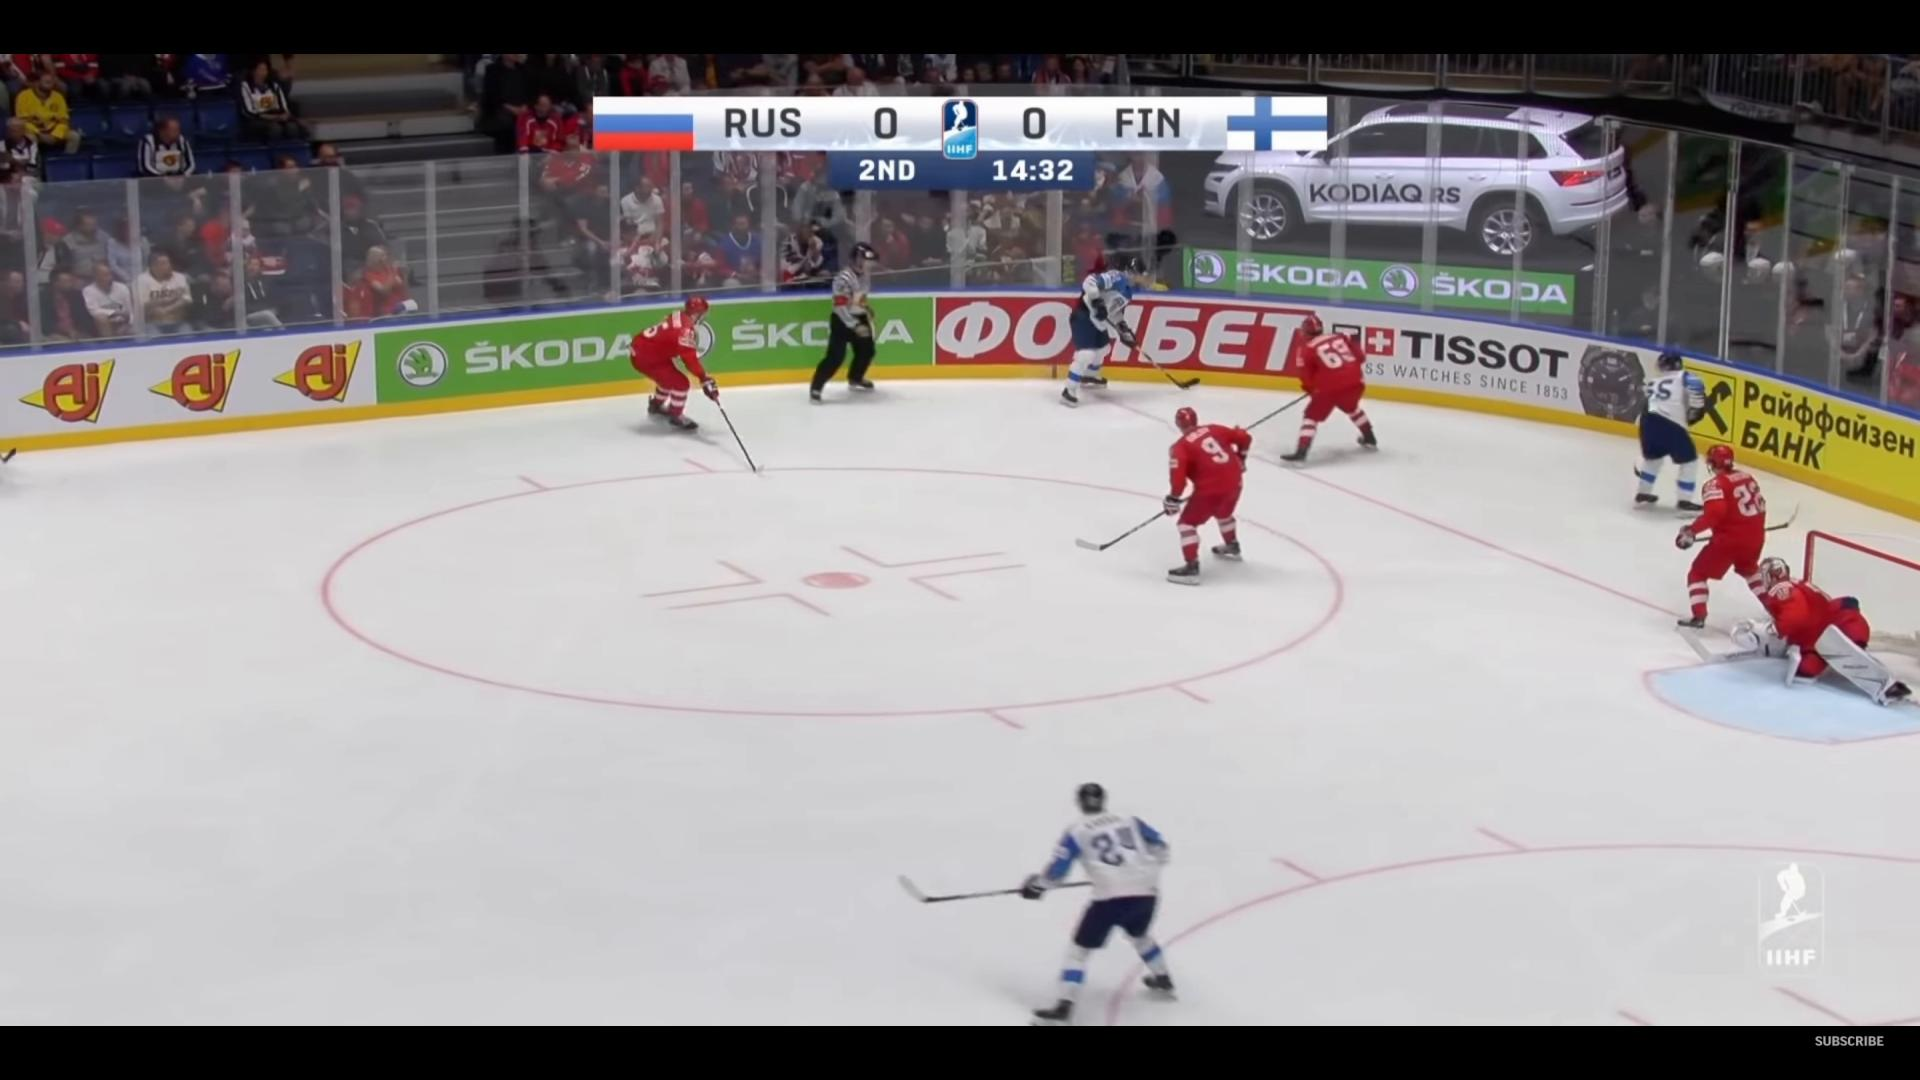puck: (1181, 384, 1189, 390)
